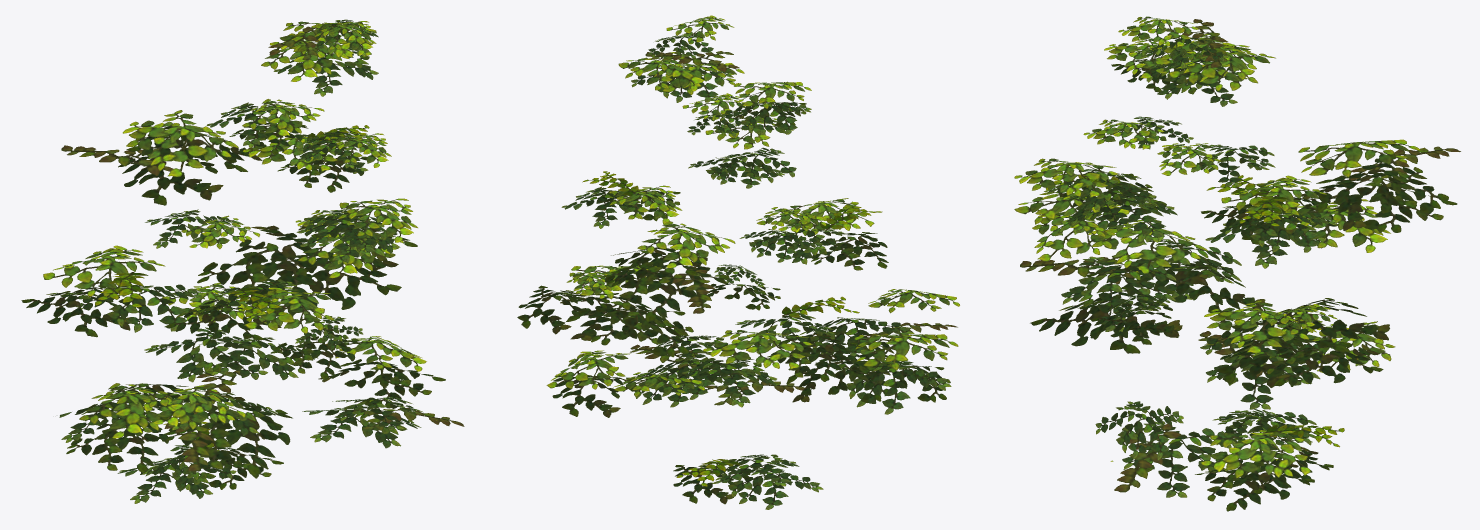
Rendered from S_Tree_Green126_1060_1.fbx.
3 views of the same model, side by side, from view 1: azimuth 30°, elevation 25°; view 2: azimuth 150°, elevation 25°; view 3: azimuth 270°, elevation 25° (orthographic). The views are drawn at different scales.
Visible parts, largest first — view 1: S_Tree_Green126_1060_1; view 2: S_Tree_Green126_1060_1; view 3: S_Tree_Green126_1060_1.
Part boxes in pixels (left/top/right/bottom): S_Tree_Green126_1060_1: left=21, top=19, right=464, bottom=503; S_Tree_Green126_1060_1: left=517, top=15, right=959, bottom=509; S_Tree_Green126_1060_1: left=1014, top=16, right=1460, bottom=511.
Size of the model in its own units: 238 by 248 by 217.
1 material, 1 textured.
